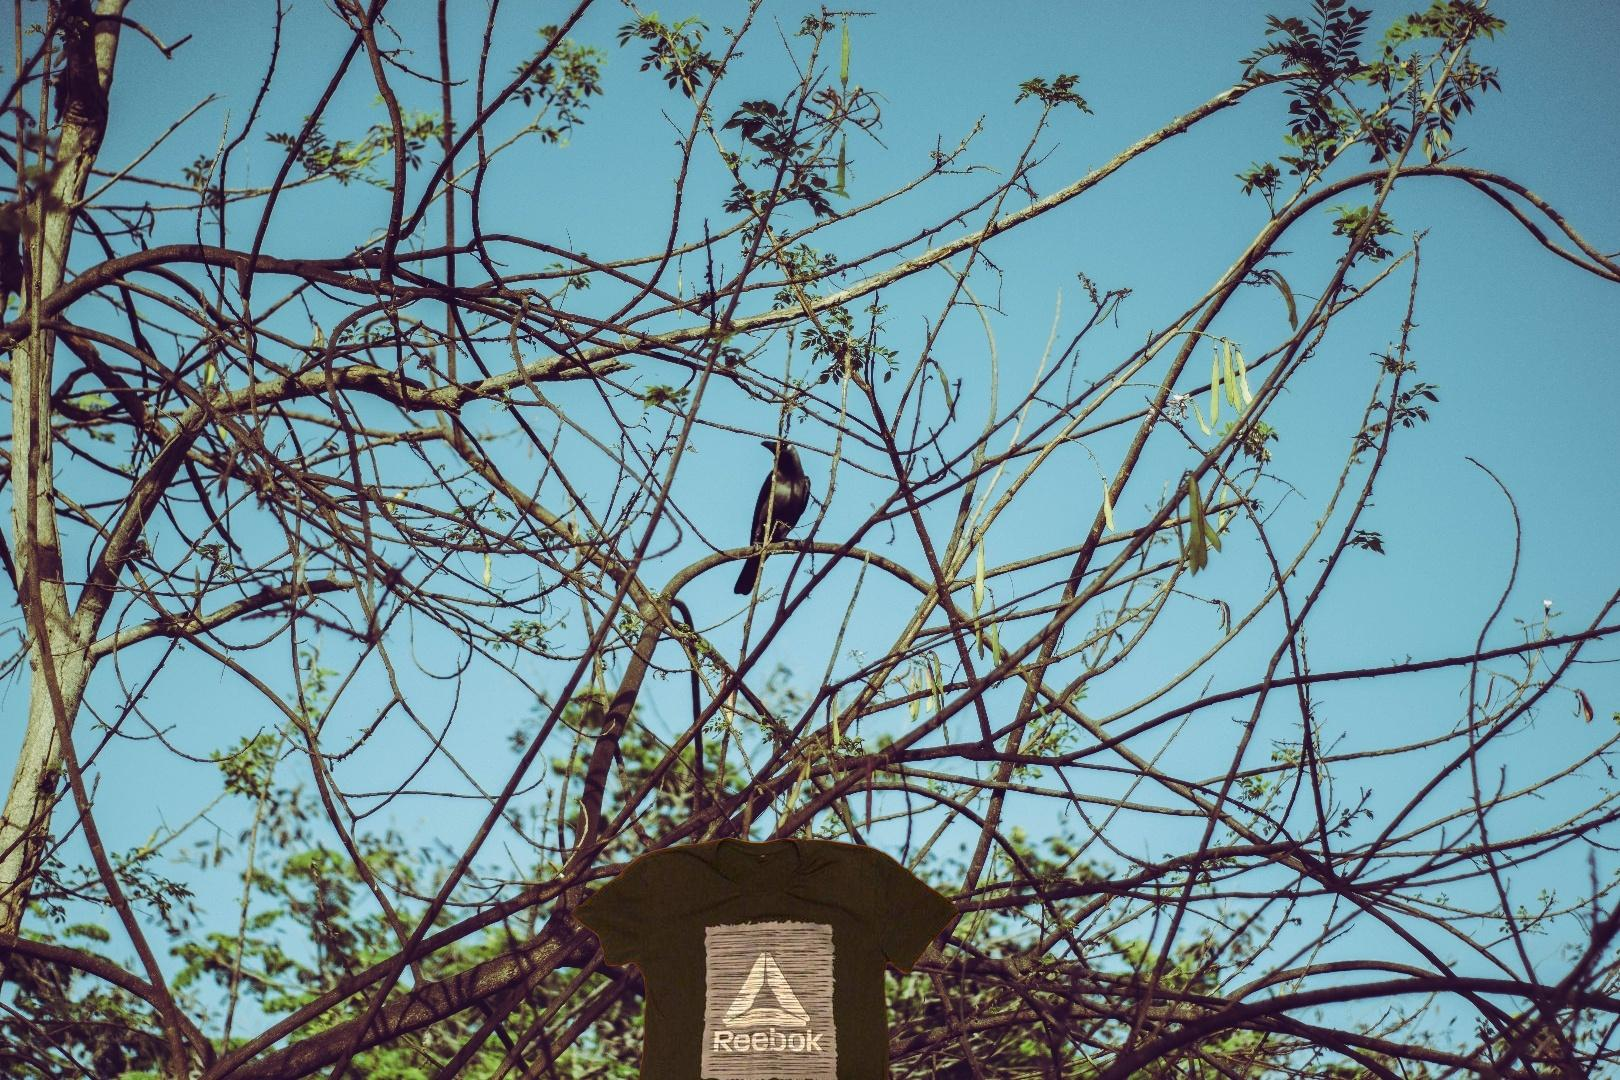clothes: (568, 833, 963, 1080)
